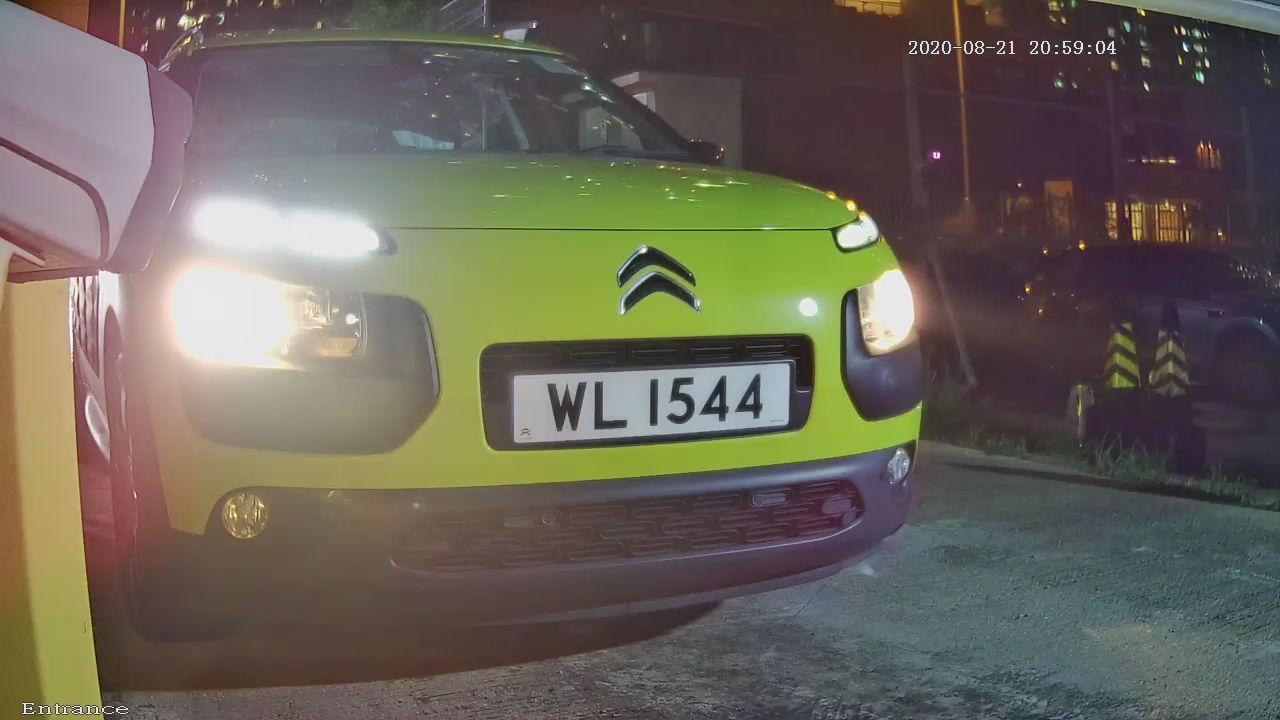Car: (1, 33, 1006, 611)
License Plate: (455, 337, 822, 464)
